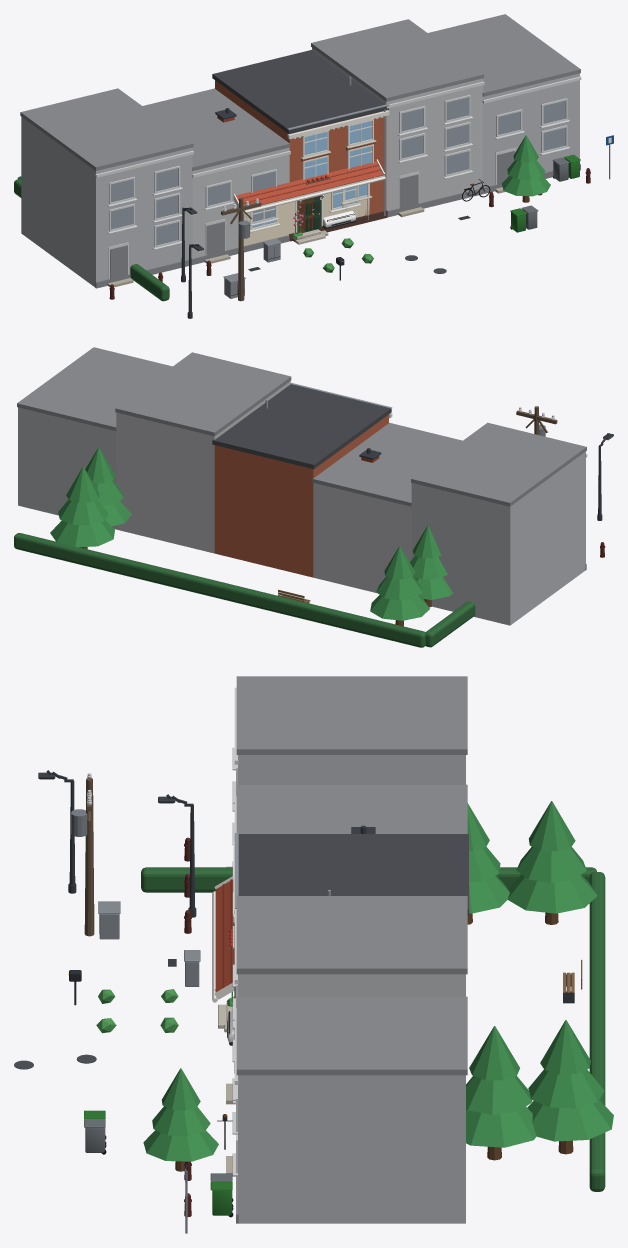
3 views of the same model, one above another, from view 1: azimuth 30°, elevation 25°; view 2: azimuth 150°, elevation 25°; view 3: azimuth 270°, elevation 25° (orthographic). The views are drawn at different scales.
Visible parts, largest first — view 1: terraced_grey_edge, terraced_grey_wall_b, terraced_grey_wall_a, terraced_roof_edge, terraced_grey_trim, terraced_grey_glass, terraced_brick, detached_roof_tile, terraced_trim, terraced_glass, detached_pine, detached_trim (+7 smaller); view 2: terraced_grey_edge, terraced_grey_wall_b, terraced_grey_wall_a, terraced_brick, terraced_roof_edge, detached_hedge, terraced_pine, detached_pine; view 3: terraced_grey_edge, terraced_grey_wall_b, terraced_roof_edge, detached_pine, terraced_pine, detached_hedge, terraced_grey_wall_a, terraced_grey_trim, detached_roof_tile, detached_pole_wood, detached_cabinet, detached_leaf (+3 smaller).
Part boxes in pixels (x1,y1,x2,y2): terraced_grey_edge: (20,14,580,288); terraced_grey_wall_b: (21,73,579,287); terraced_grey_wall_a: (192,47,483,258); terraced_roof_edge: (212,50,388,133); terraced_grey_trim: (95,76,581,279); terraced_grey_glass: (111,97,565,245); terraced_brick: (215,80,386,215); detached_roof_tile: (236,161,383,205); terraced_trim: (287,110,611,226); terraced_glass: (304,121,371,200); detached_pine: (501,135,550,196); detached_trim: (233,159,385,232); terraced_grey_edge: (17,347,586,569); terraced_grey_wall_b: (18,407,585,625); terraced_grey_wall_a: (116,381,411,593); terraced_brick: (214,415,388,577); terraced_roof_edge: (212,384,391,469); detached_hedge: (14,533,475,647); terraced_pine: (50,466,429,620); detached_pine: (85,447,452,599); terraced_grey_edge: (236,676,467,1223); terraced_grey_wall_b: (238,755,465,1223); terraced_roof_edge: (238,834,468,915); detached_pine: (143,803,536,1161); terraced_pine: (507,801,613,1141); detached_hedge: (141,867,605,1191); terraced_grey_wall_a: (238,974,465,996); terraced_grey_trim: (232,687,238,1175); detached_roof_tile: (215,879,234,992); detached_pole_wood: (84,777,94,936); detached_cabinet: (98,901,120,939); detached_leaf: (96,989,178,1033).
Size of the model in its own units: 31.19 by 8.11 by 21.03.
